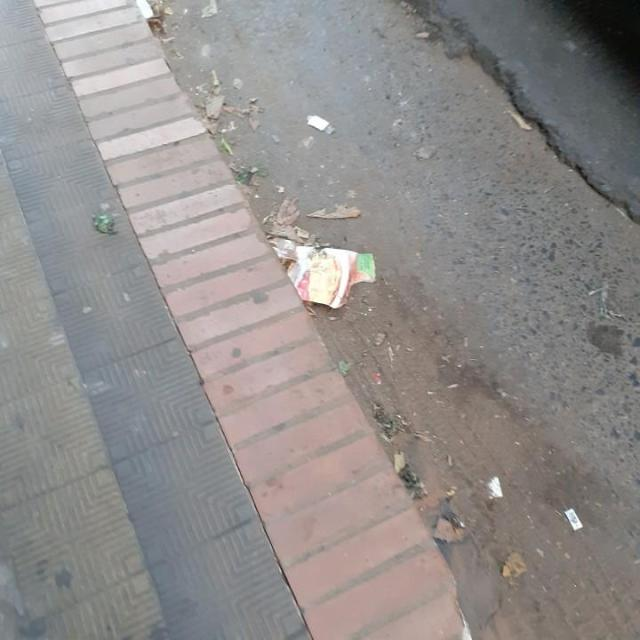litter: (274, 237, 375, 307), (565, 508, 585, 529), (307, 114, 331, 129), (487, 476, 502, 494)
